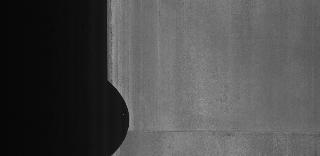welding line: (120, 128, 320, 140)
